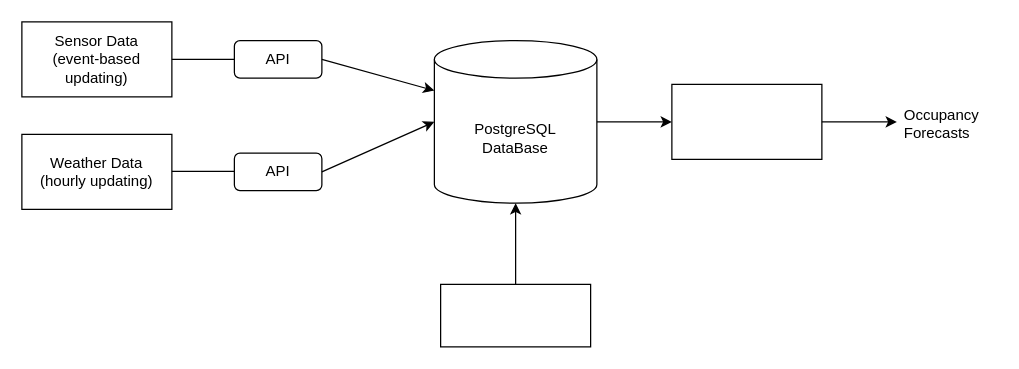
Image size: 1019x369. Some labels were removed from this diagram. Each missing label, with the centre of its shape:
"Classroom Metadata" belongs at [515,315].
"Models" belongs at [746,121].
